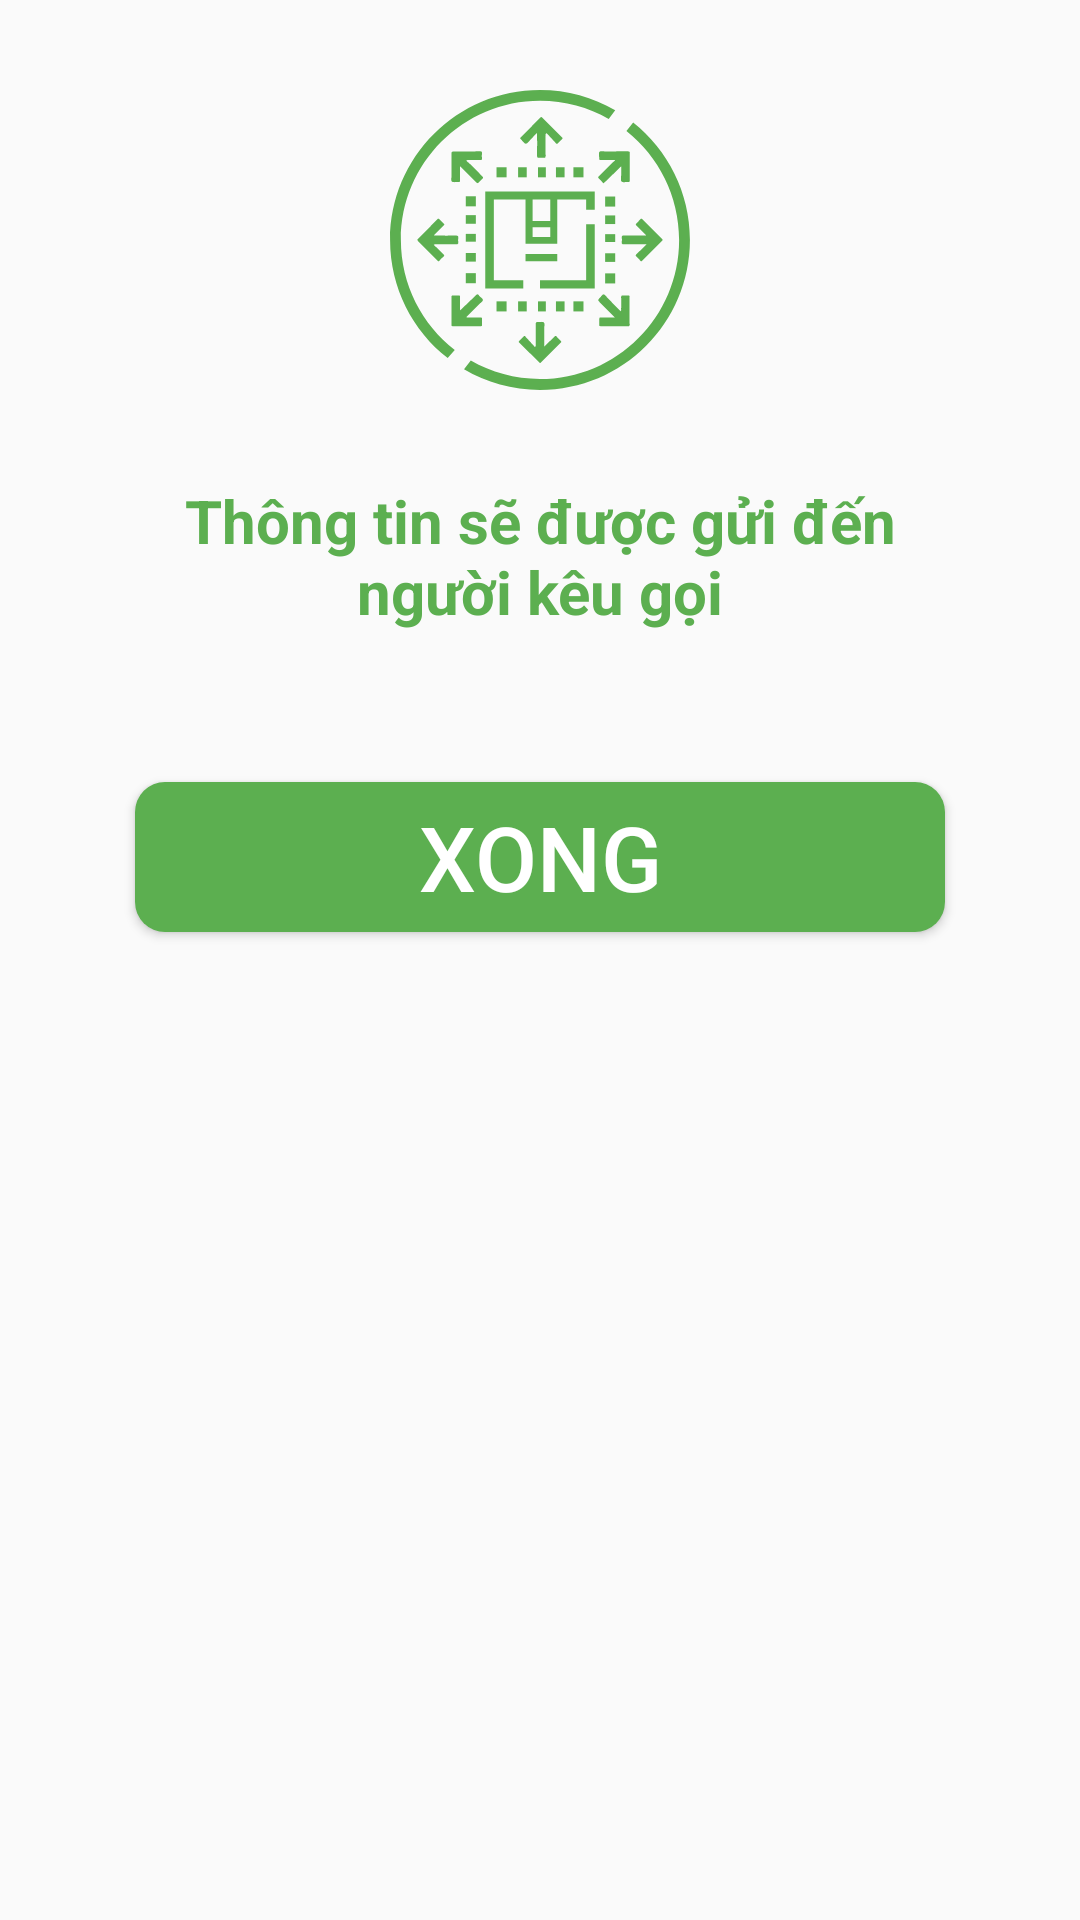

Screen size 1080px×1920px. Icon name, then its center in pixels as [x,y]:
distribution: [540,240]
